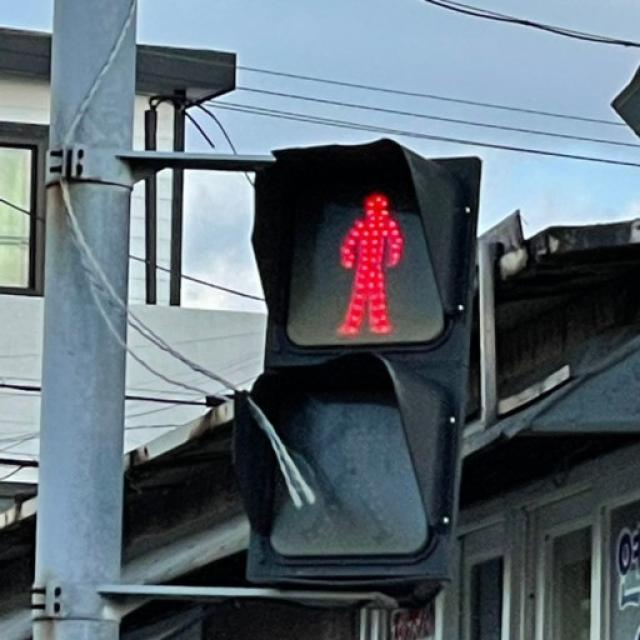red_light: (298, 194, 423, 342)
